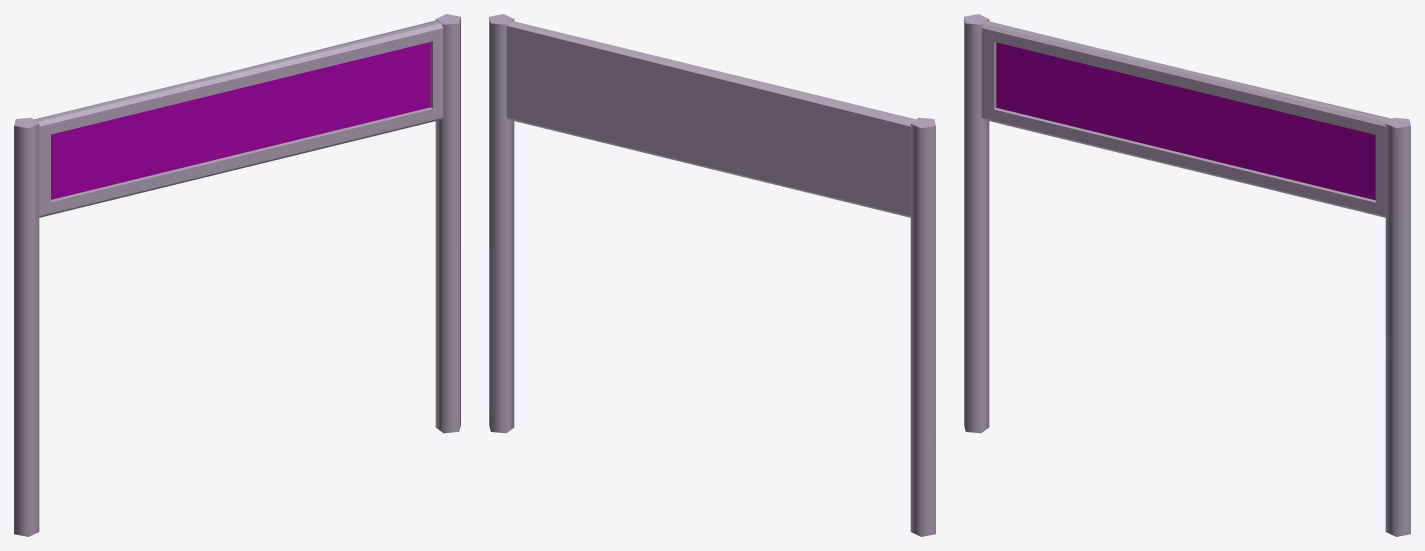
Rendered from sign_modguide.fbx.
The picture shows the model from 3 angles, left to right: view 1: azimuth 30°, elevation 25°; view 2: azimuth 150°, elevation 25°; view 3: azimuth 330°, elevation 25°; orthographic projection.
Parts seen in each view (by area): view 1: sign_modguide, SignTextPanel; view 2: sign_modguide; view 3: sign_modguide, SignTextPanel.
Boxes of the visible parts, box(x1,y1,x2,y2) form: sign_modguide: box(14, 14, 460, 536); SignTextPanel: box(51, 42, 430, 199); sign_modguide: box(489, 14, 935, 536); sign_modguide: box(964, 14, 1410, 536); SignTextPanel: box(996, 42, 1375, 200).
Bounding box in the file's own units: 0.9468 × 0.8272 × 0.0473.
